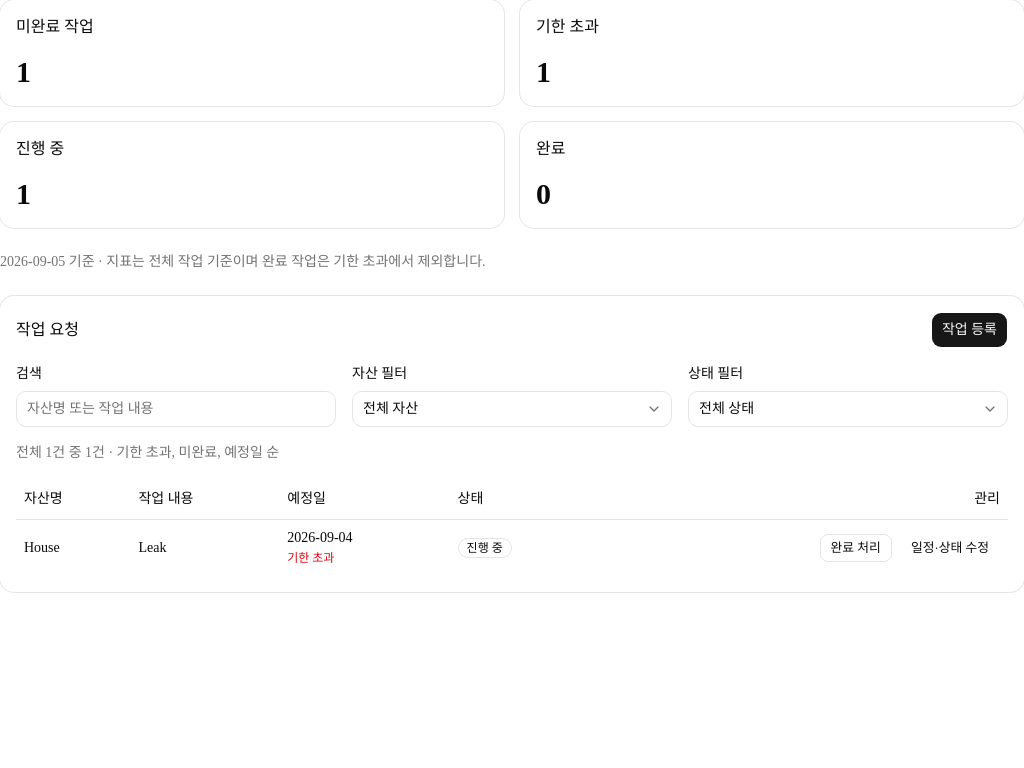
Test case: keeps completion evidence when saving fails
Click the button with aria-label "Leak 완료 처리" at (856, 548), box [820,534,892,562]
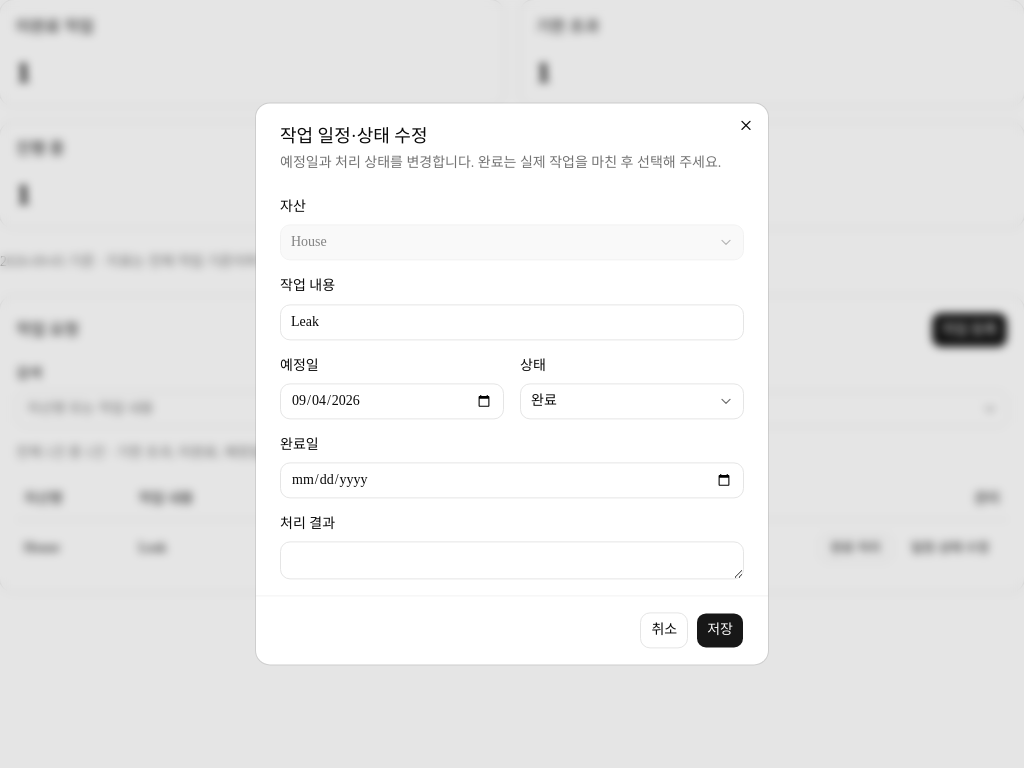
Type "2026-09-03" into the date field labelled "완료일" at (512, 480), box [280,462,744,498]
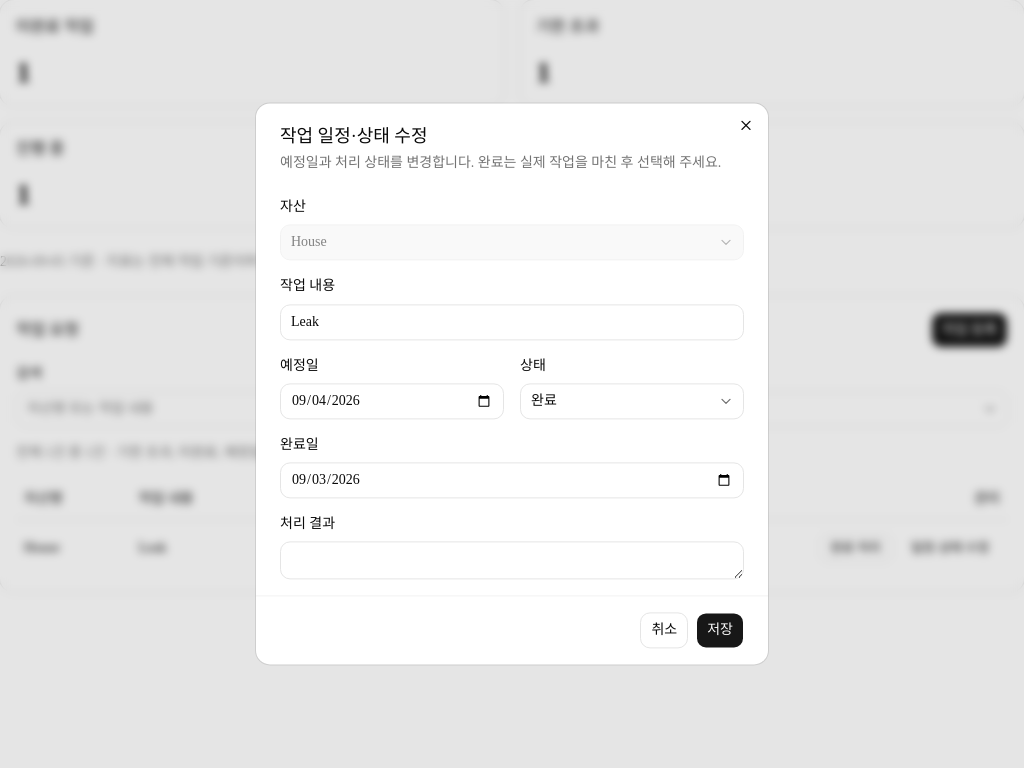
Type "Repaired" into the text box labelled "처리 결과" at (512, 561), box [280,542,744,580]
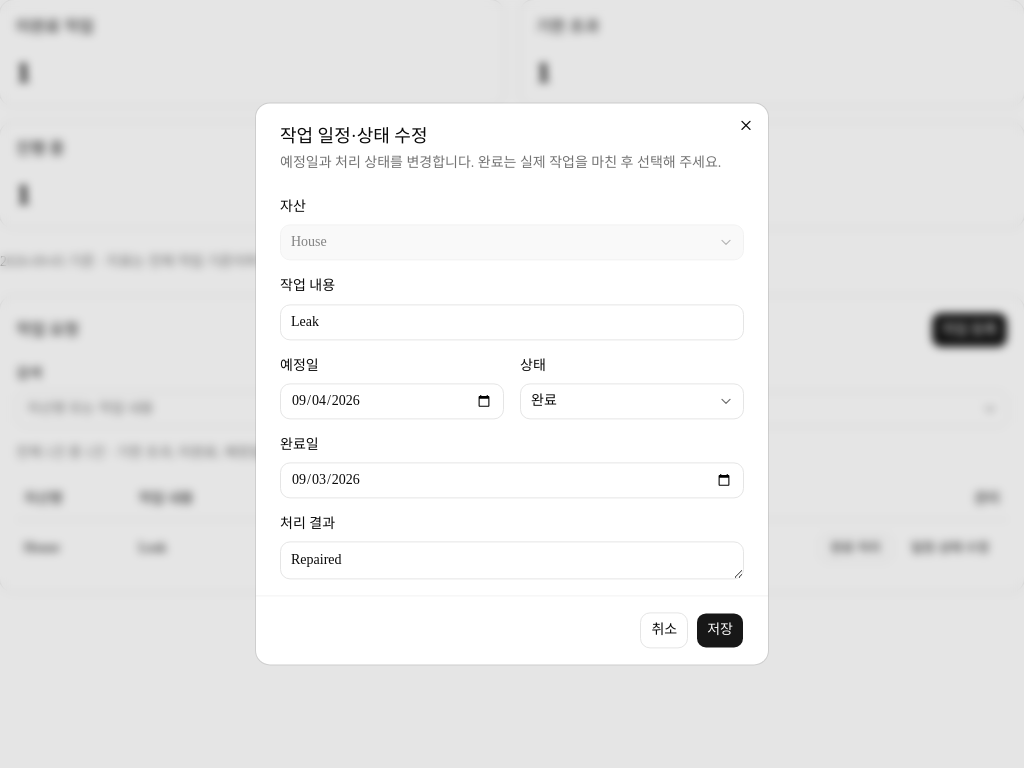
Click the button "저장" at (720, 631), box [696,613,744,649]
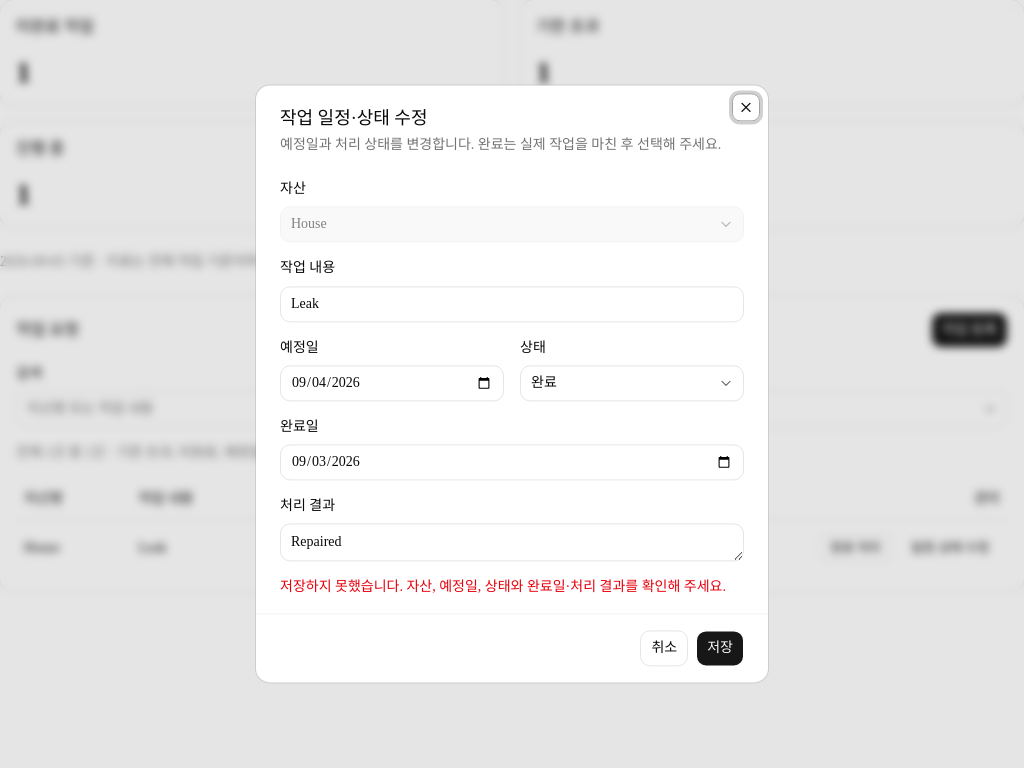
Expected: the message "저장하지 못했습니다. 자산, 예정일, 상태와 완료일·처리 결과를 확인해 주세요." is shown, [280,578,744,598]
